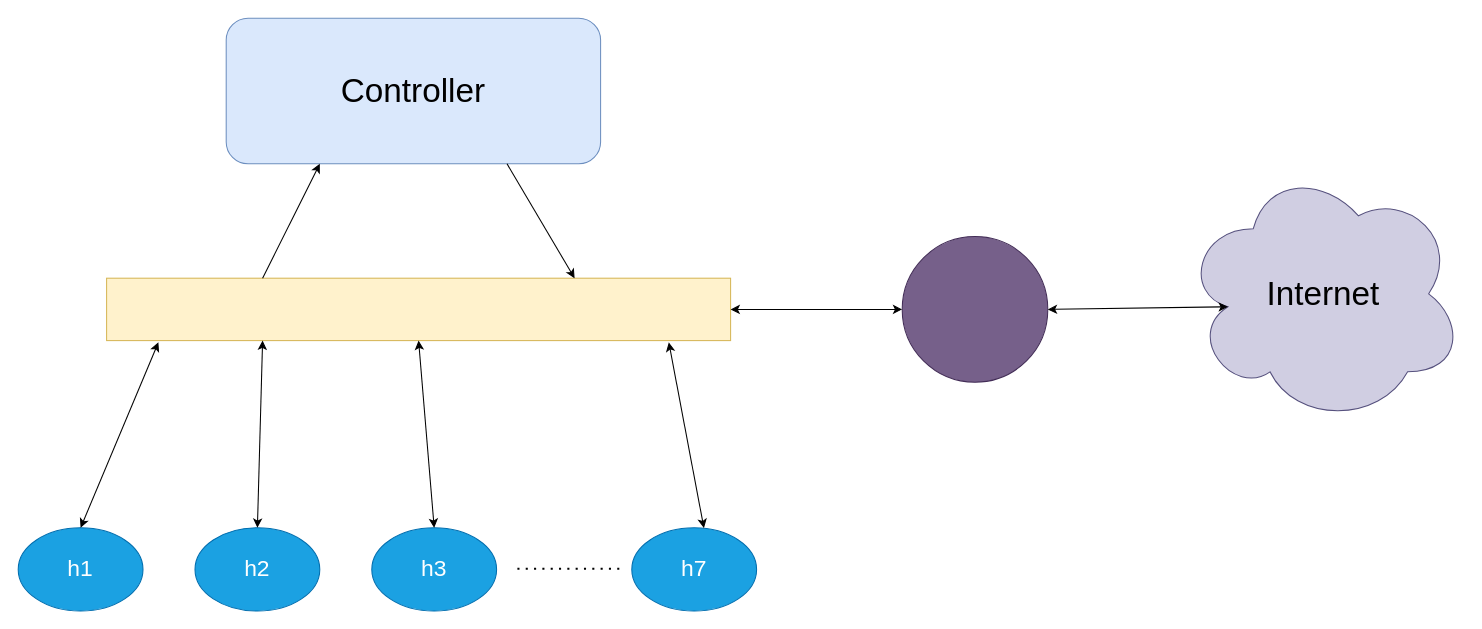
Some shapes in this 1482 by 629 pixel diagram are drawn without their labels. Each missing label, with the box of its shape:
NAT Gateway: (901, 236, 1048, 382)
Switch S1: (106, 277, 731, 341)
